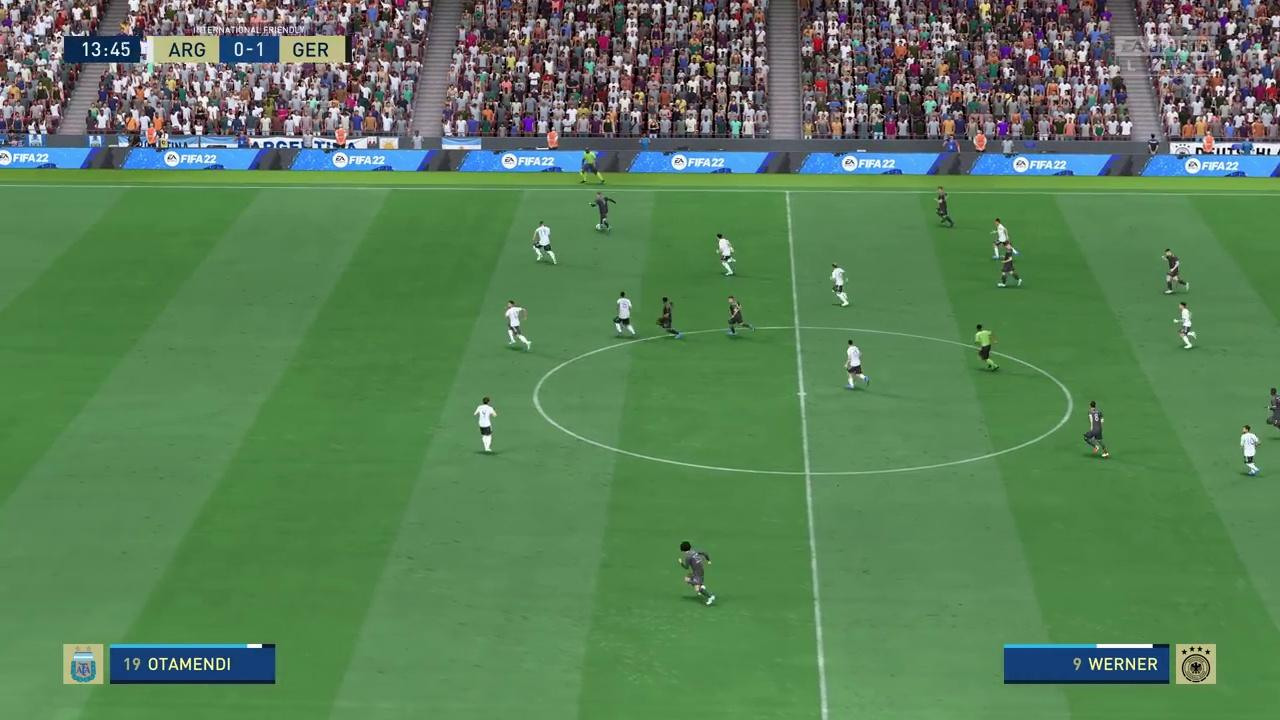scoreboard: (150, 37, 349, 64)
timestamp: (68, 35, 141, 62)
